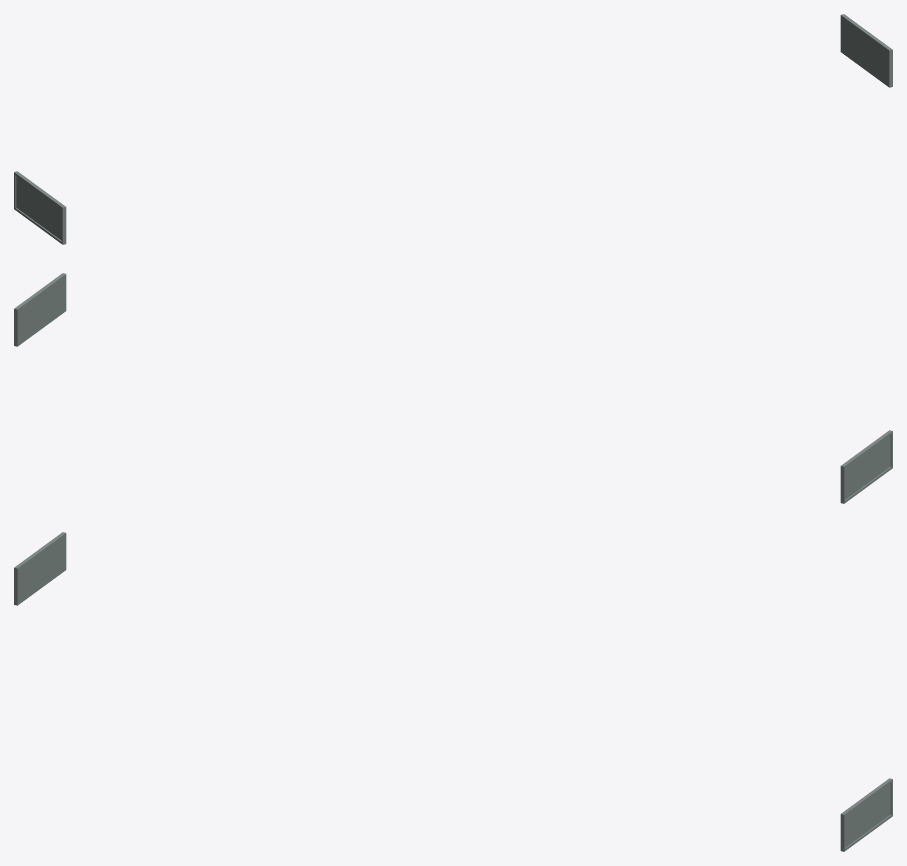
The model's file is Plates.glb.
3 views of the same model, one above another, from view 1: azimuth 30°, elevation 25°; view 2: azimuth 150°, elevation 25°; view 3: azimuth 330°, elevation 25° (orthographic).
Visible parts, largest first — view 1: Cube.059; view 2: Cube.059; view 3: Cube.059.
Part boxes in pixels (left/top/right/bottom): Cube.059: left=14, top=14, right=892, bottom=244; Cube.059: left=14, top=273, right=892, bottom=503; Cube.059: left=14, top=532, right=892, bottom=851.
Bounding box in the file's own units: 0.151 × 0.0142 × 0.0154.
Materials: 1 (1 with a texture image).
